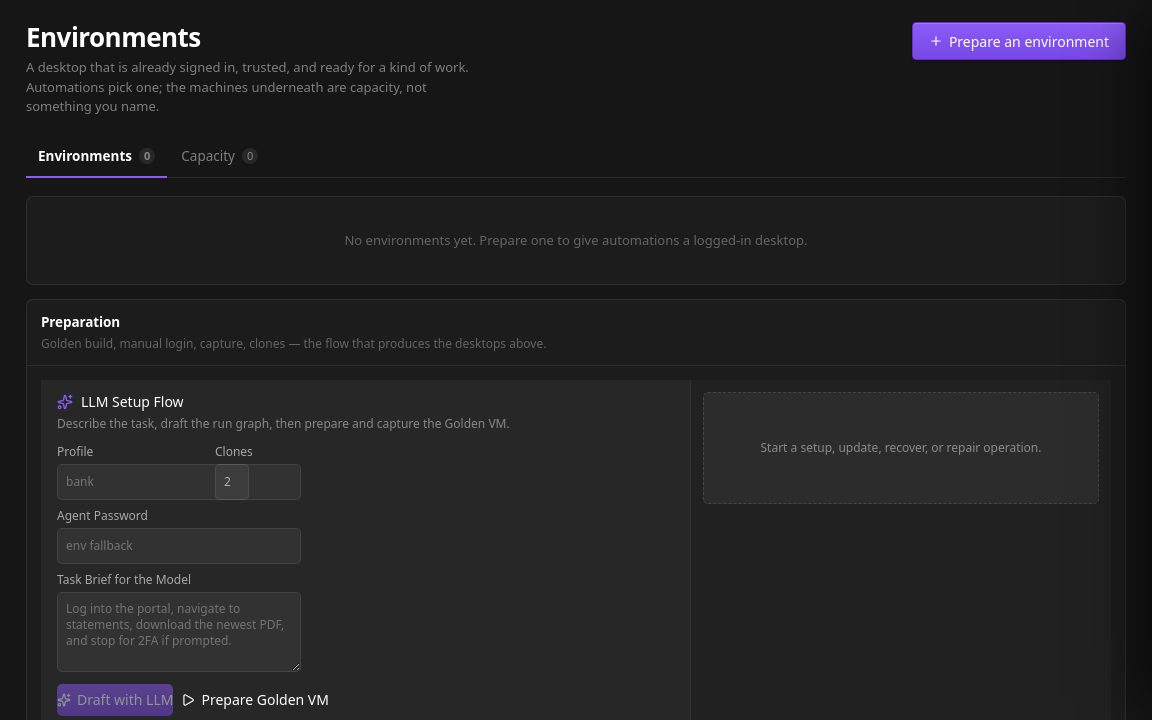
EnvironmentsPanel › opens the prepare-an-environment drawer
Click the button "Prepare an environment": (1019, 41) [912, 22, 1126, 60]
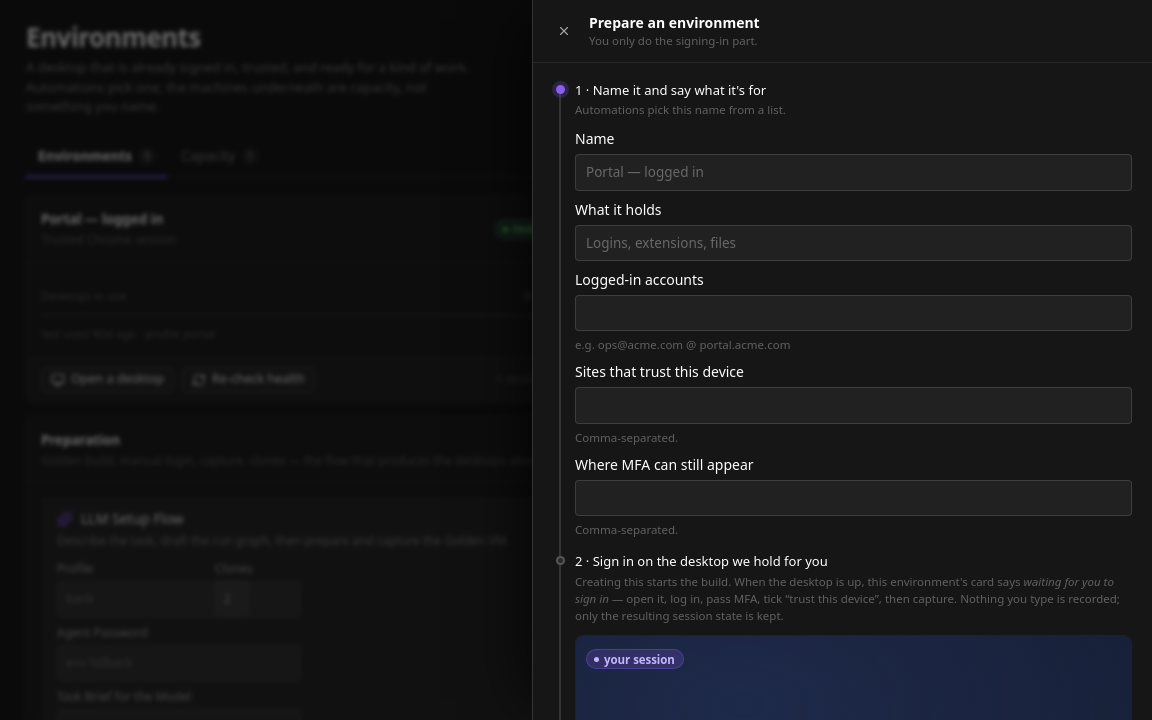
Now the field named "Environment name" is shown, box [575, 154, 1132, 191]
